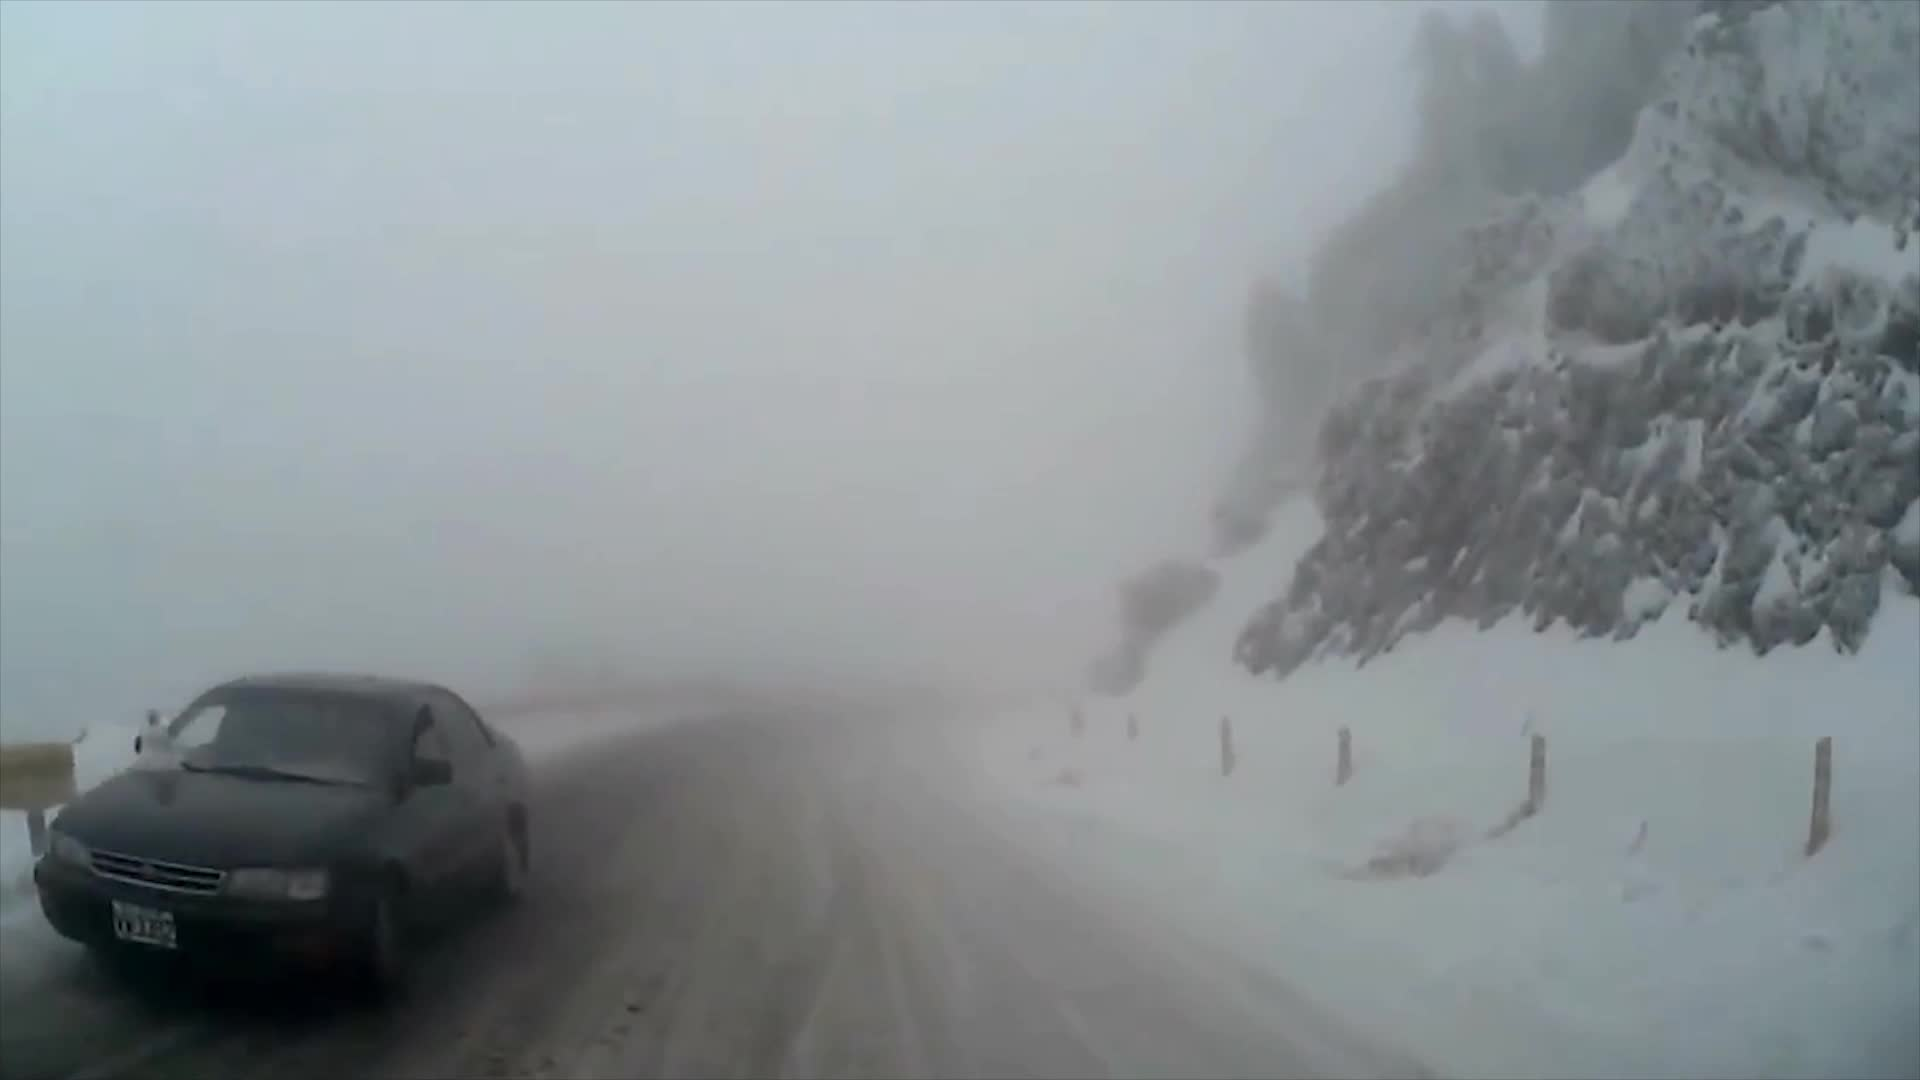vehicle: (29, 671, 535, 1000)
